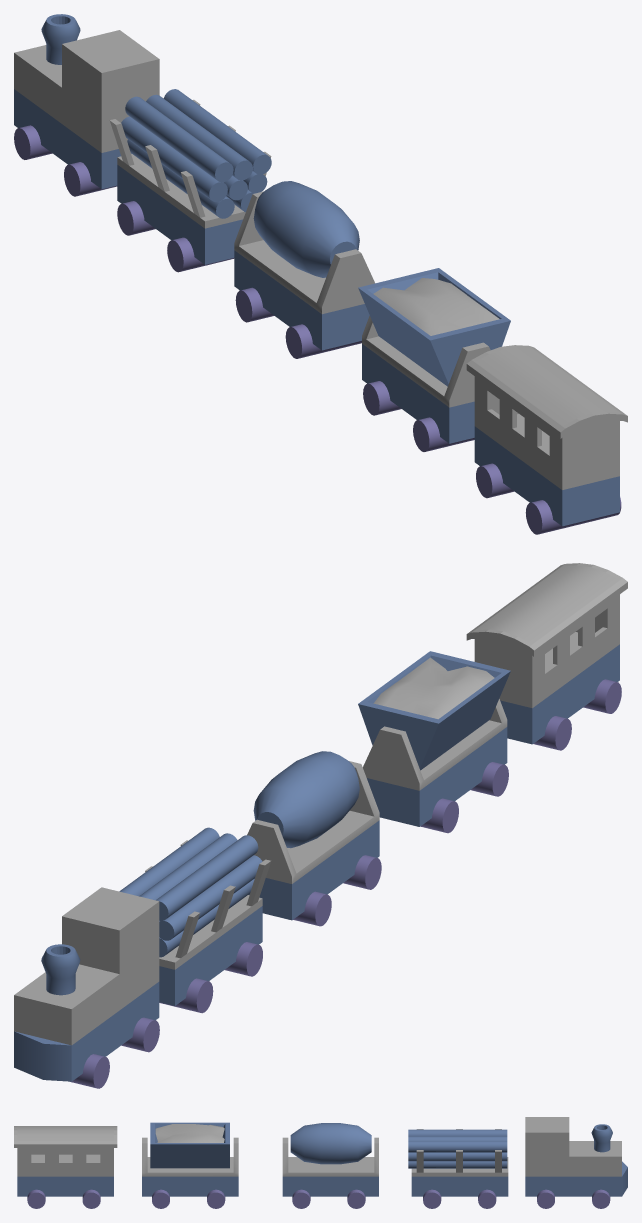
File: SM_train.fbx
3 views of the same model, one above another, from view 1: azimuth 30°, elevation 25°; view 2: azimuth 150°, elevation 25°; view 3: azimuth 270°, elevation 25° (orthographic). The views are drawn at different scales.
Visible parts, largest first — view 1: pCube36, pCube39, pCylinder11, pCube28, pCube32, pCube35, pCube31, pCube33, pPlane6, pCube30, pCube38, pCube34 (+17 smaller); view 2: pCube36, pCube39, pCylinder11, pCube28, pCube38, pCube32, pCube30, pCube29, pPlane6, pCube31, pCube35, pCube33 (+17 smaller); view 3: pCube36, pCube39, pCylinder11, pCube28, pCube38, pCube33, pCube30, pCube35, pCube31, pCube32, pCube34, pCube29 (+17 smaller).
Part boxes in pixels (x1=…): pCube36: x1=466, y1=345, x2=627, y2=489; pCube39: x1=14, y1=30, x2=159, y2=152; pCylinder11: x1=253, y1=181, x2=359, y2=277; pCube28: x1=358, y1=268, x2=510, y2=386; pCube32: x1=234, y1=191, x2=374, y2=314; pCube35: x1=474, y1=426, x2=619, y2=526; pCube31: x1=234, y1=250, x2=369, y2=350; pCube33: x1=117, y1=165, x2=242, y2=264; pPlane6: x1=373, y1=278, x2=499, y2=335; pCube30: x1=362, y1=344, x2=474, y2=443; pCube38: x1=14, y1=89, x2=131, y2=189; pCube34: x1=109, y1=99, x2=271, y2=228; pCube36: x1=466, y1=563, x2=627, y2=708; pCube39: x1=14, y1=887, x2=159, y2=1045; pCylinder11: x1=253, y1=751, x2=359, y2=848; pCube28: x1=358, y1=651, x2=510, y2=770; pCube38: x1=14, y1=982, x2=159, y2=1081; pCube32: x1=247, y1=761, x2=379, y2=883; pCube30: x1=367, y1=727, x2=507, y2=826; pCube29: x1=363, y1=699, x2=507, y2=790; pPlane6: x1=373, y1=657, x2=494, y2=719; pCube31: x1=248, y1=820, x2=379, y2=920; pCube35: x1=500, y1=644, x2=619, y2=744; pCube33: x1=159, y1=906, x2=262, y2=1005; pCube36: x1=14, y1=1126, x2=117, y2=1176; pCube39: x1=525, y1=1117, x2=621, y2=1176; pCylinder11: x1=290, y1=1123, x2=371, y2=1164; pCube28: x1=150, y1=1122, x2=229, y2=1168; pCube38: x1=525, y1=1161, x2=627, y2=1196; pCube33: x1=411, y1=1176, x2=508, y2=1196; pCube30: x1=142, y1=1176, x2=238, y2=1196; pCube35: x1=17, y1=1176, x2=113, y2=1196; pCube31: x1=282, y1=1176, x2=378, y2=1196; pCube32: x1=282, y1=1137, x2=378, y2=1176; pCube34: x1=411, y1=1129, x2=508, y2=1176; pCube29: x1=142, y1=1137, x2=238, y2=1176.
Size of the model in its own units: 0.2926 by 0.4415 by 3.34.
